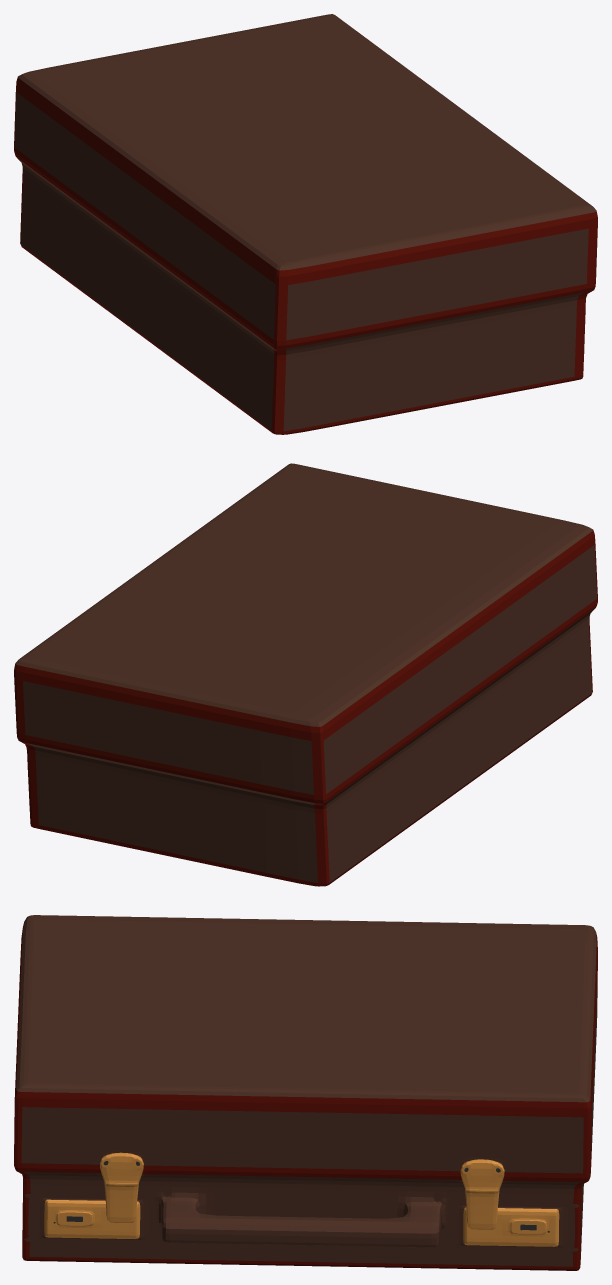
The model's file is Smaller_Suitcase.fbx.
The picture shows the model from 3 angles, top to bottom: view 1: azimuth 30°, elevation 25°; view 2: azimuth 150°, elevation 25°; view 3: azimuth 270°, elevation 25°; orthographic projection. The views are drawn at different scales.
Visible parts, largest first — view 1: Cube.058; view 2: Cube.058; view 3: Cube.058.
Boxes of the visible parts, x1,y1,x2,y2 form: Cube.058: (14,14,597,434); Cube.058: (14,463,597,886); Cube.058: (14,915,597,1270).
Size of the model in its own units: 16605 by 8355 by 22162.
